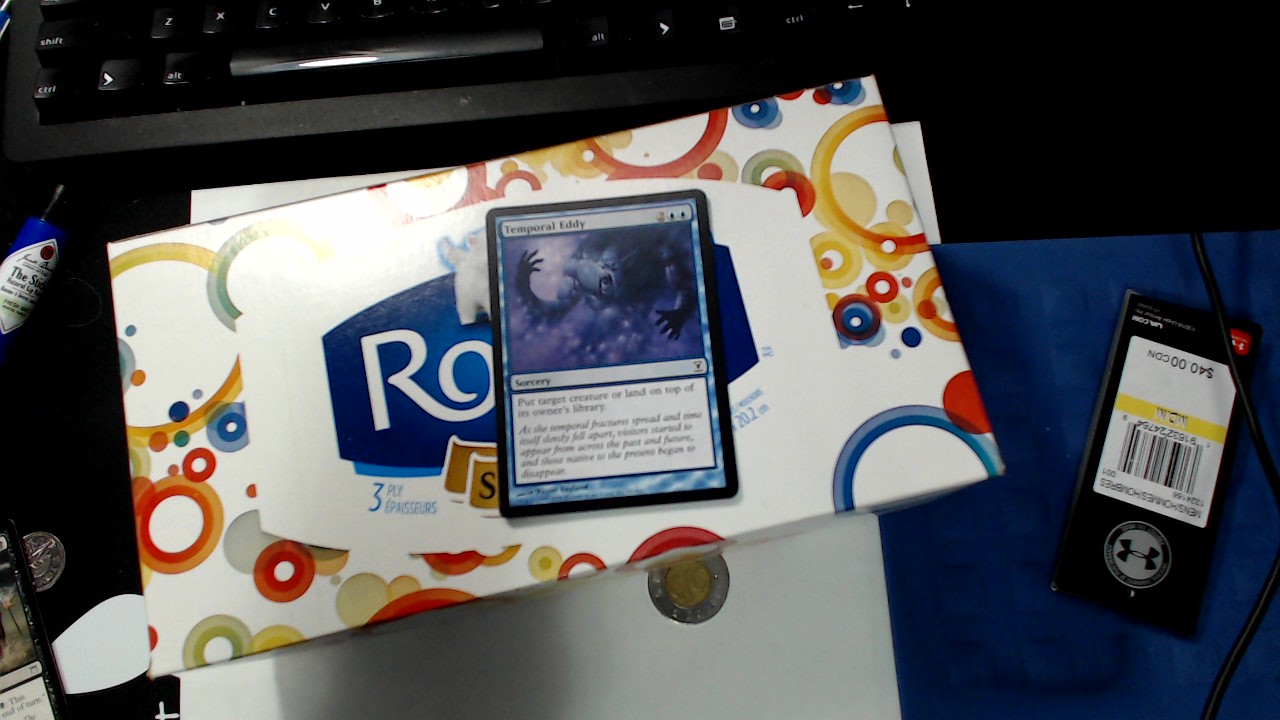MTG Card: (484, 184, 744, 525)
